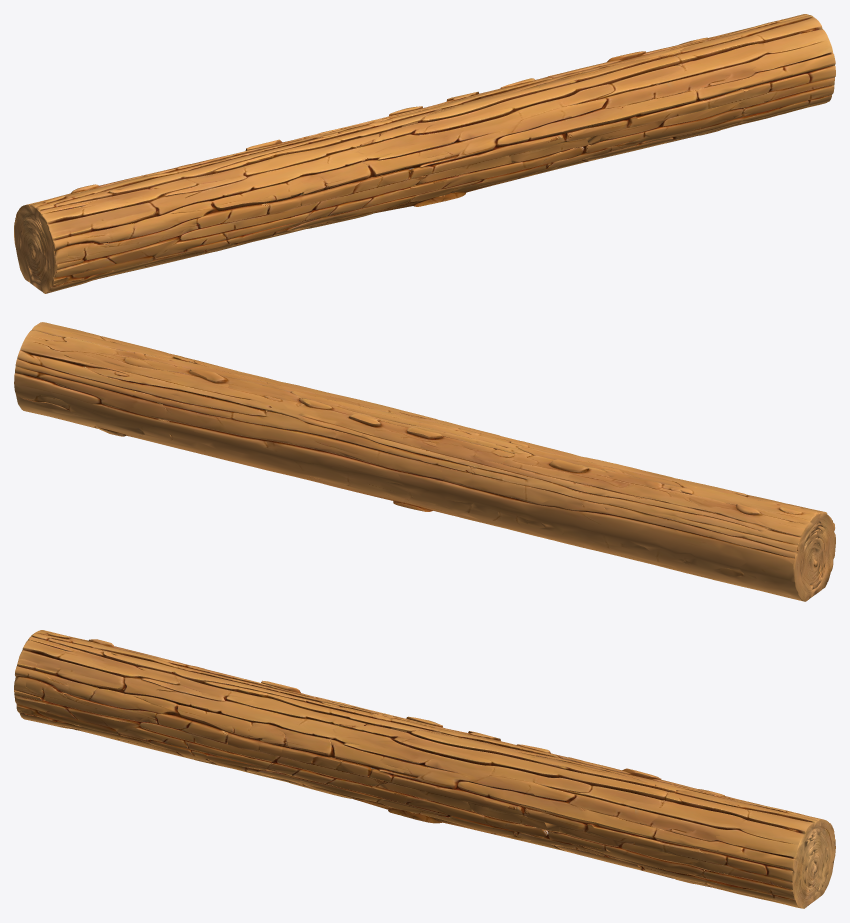
The model's file is log.glb.
The picture shows the model from 3 angles, top to bottom: view 1: azimuth 30°, elevation 25°; view 2: azimuth 150°, elevation 25°; view 3: azimuth 330°, elevation 25°; orthographic projection.
Parts seen in each view (by area): view 1: model; view 2: model; view 3: model.
Part boxes in pixels (x1=…): model: x1=14, y1=14, x2=835, y2=293; model: x1=14, y1=322, x2=835, y2=601; model: x1=14, y1=630, x2=835, y2=908.
Bounding box in the file's own units: 4.83 × 0.48 × 0.48.
Materials: 2 (1 with a texture image).
